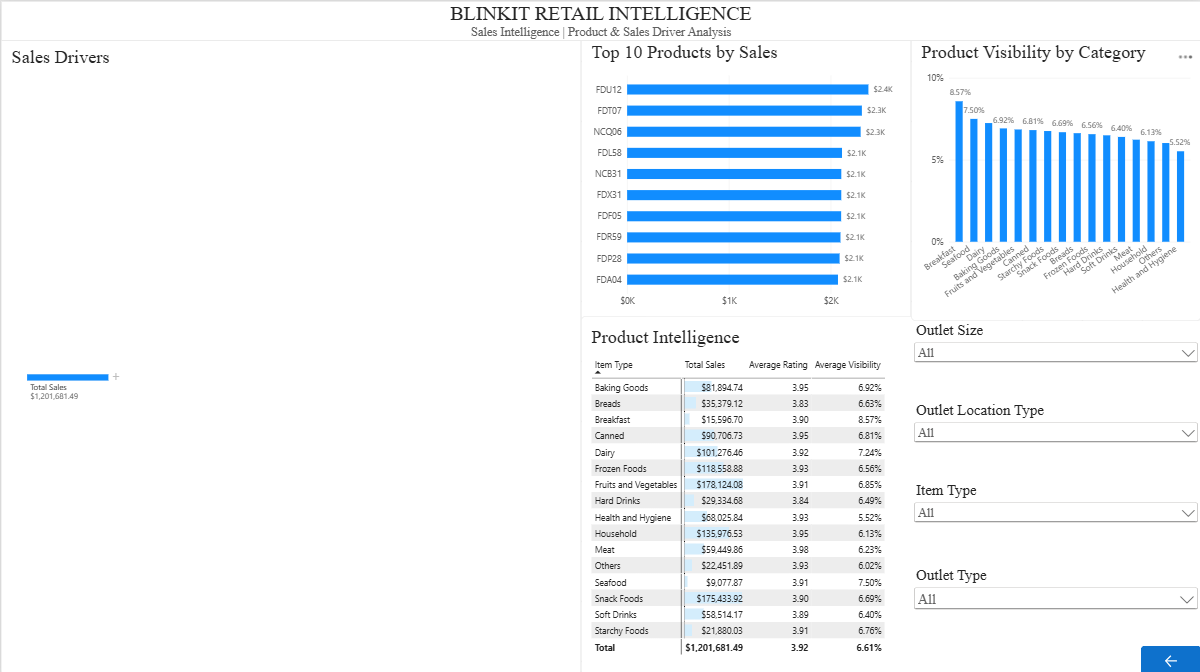

Layout of this report page (visuals, bound fields, positions):
{"tool":"powerbi","page":{"name":"Sales Intelligence","canvas":[1920,1080],"ordinal":1},"visuals":[{"type":"decompositionTreeVisual","title":"Sales Drivers","fields":{"Analyze":["_Measures.Total Sales"],"ExplainBy":["Fact_Retail.Outlet Age Group","Fact_Retail.Outlet Size","Fact_Retail.Item Fat Content","Fact_Retail.Outlet Location Type","Fact_Retail.Item Type","Fact_Retail.Outlet Type"]},"box":[0,56,928,1024],"z":0},{"type":"clusteredBarChart","title":"Top 10 Products by Sales","fields":{"Category":["Fact_Retail.Item Identifier"],"Y":["_Measures.Total Sales"]},"box":[928,48,528,464],"z":1000},{"type":"pivotTable","title":"Product Intelligence","fields":{"Rows":["Fact_Retail.Item Type"],"Values":["_Measures.Total Sales","_Measures.Average Rating","_Measures.Average Visibility"]},"box":[928,504,544,576],"z":2000},{"type":"clusteredColumnChart","title":"Product Visibility by Category","fields":{"Category":["Fact_Retail.Item Type"],"Y":["_Measures.Average Visibility"]},"box":[1456,48,464,464],"z":3000},{"type":"textbox","title":"BLINKIT RETAIL INTELLIGENCE","box":[0,0,1920,64],"z":4000},{"type":"slicer","fields":{"Values":["Fact_Retail.Outlet Size"]},"box":[1456,512,464,128],"z":5000},{"type":"slicer","fields":{"Values":["Fact_Retail.Outlet Location Type"]},"box":[1456,640,464,128],"z":6000},{"type":"slicer","fields":{"Values":["Fact_Retail.Item Type"]},"box":[1456,768,464,144],"z":7000},{"type":"slicer","fields":{"Values":["Fact_Retail.Outlet Type"]},"box":[1456,904,464,176],"z":8000},{"type":"actionButton","box":[1824,1032,96,48],"z":9000}]}

Visuals, with their boxes in screenshot pixels (x1, y1, x2, y2), scaled from the page's 1920x1080 canvas onto the 1200x672 screenshot:
"Sales Drivers" decompositionTreeVisual: crop(0, 35, 580, 671)
"Top 10 Products by Sales" clusteredBarChart: crop(580, 30, 910, 319)
"Product Intelligence" pivotTable: crop(580, 314, 920, 671)
"Product Visibility by Category" clusteredColumnChart: crop(910, 30, 1199, 319)
"BLINKIT RETAIL INTELLIGENCE" textbox: crop(0, 0, 1199, 40)
slicer - Fact_Retail.Outlet Size: crop(910, 319, 1199, 398)
slicer - Fact_Retail.Outlet Location Type: crop(910, 398, 1199, 478)
slicer - Fact_Retail.Item Type: crop(910, 478, 1199, 567)
slicer - Fact_Retail.Outlet Type: crop(910, 562, 1199, 671)
actionButton: crop(1140, 642, 1199, 671)
